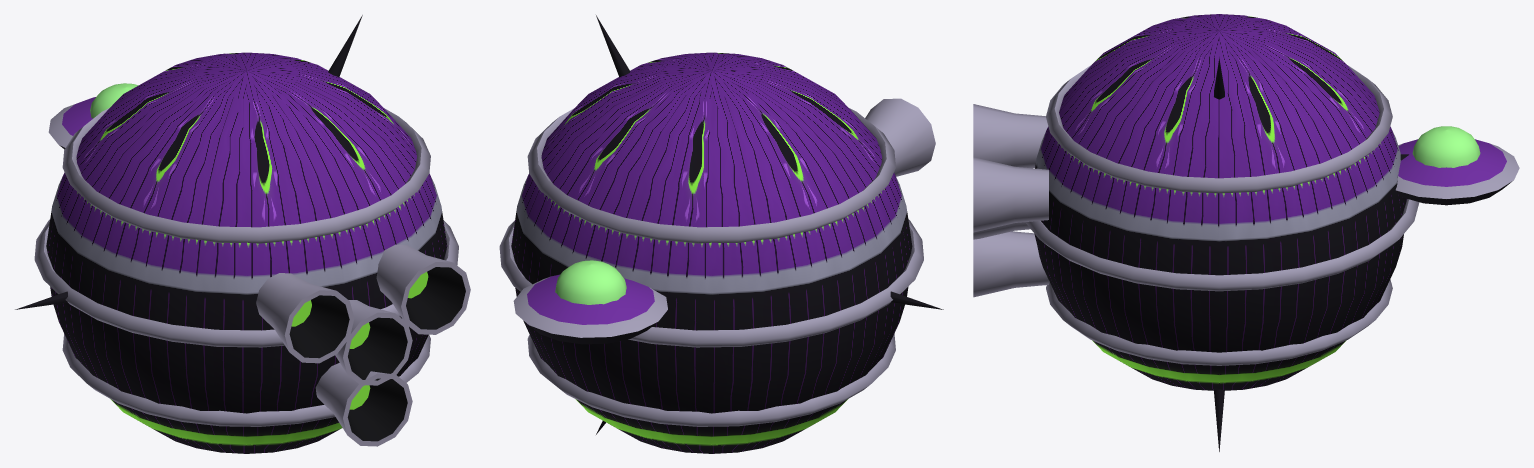
The model's file is cargo_orb.obj.
The picture shows the model from 3 angles, left to right: view 1: azimuth 30°, elevation 25°; view 2: azimuth 150°, elevation 25°; view 3: azimuth 270°, elevation 25°; orthographic projection. The views are drawn at different scales.
Visible parts, largest first — view 1: orb, engine, band, cab, spike, cab_dome; view 2: orb, band, cab, engine, cab_dome, spike; view 3: orb, band, engine, cab, cab_dome, spike.
Boxes of the visible parts, x1,y1,x2,y2 form: orb: (46, 52, 447, 453); engine: (256, 244, 470, 446); band: (34, 108, 458, 426); cab: (48, 97, 95, 149); spike: (15, 15, 362, 309); cab_dome: (90, 83, 138, 118); orb: (511, 52, 912, 453); band: (499, 108, 923, 426); cab: (513, 274, 667, 344); engine: (865, 98, 935, 176); cab_dome: (555, 260, 626, 304); spike: (596, 15, 943, 434); orb: (1034, 14, 1406, 390); band: (1025, 65, 1419, 365); engine: (973, 104, 1048, 297); cab: (1395, 139, 1519, 205); cab_dome: (1412, 126, 1480, 167); spike: (1214, 59, 1224, 451).
Bounding box in the file's own units: 35.85 × 34.64 × 43.3.
Materials: 7 (1 with a texture image).
